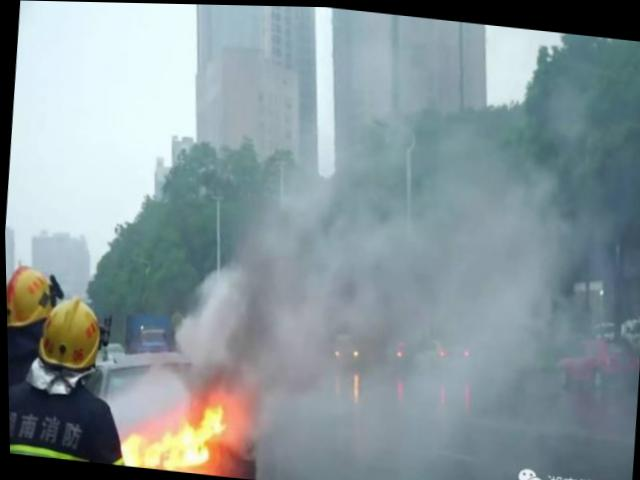fire: (120, 417, 209, 472), (196, 395, 225, 433)
